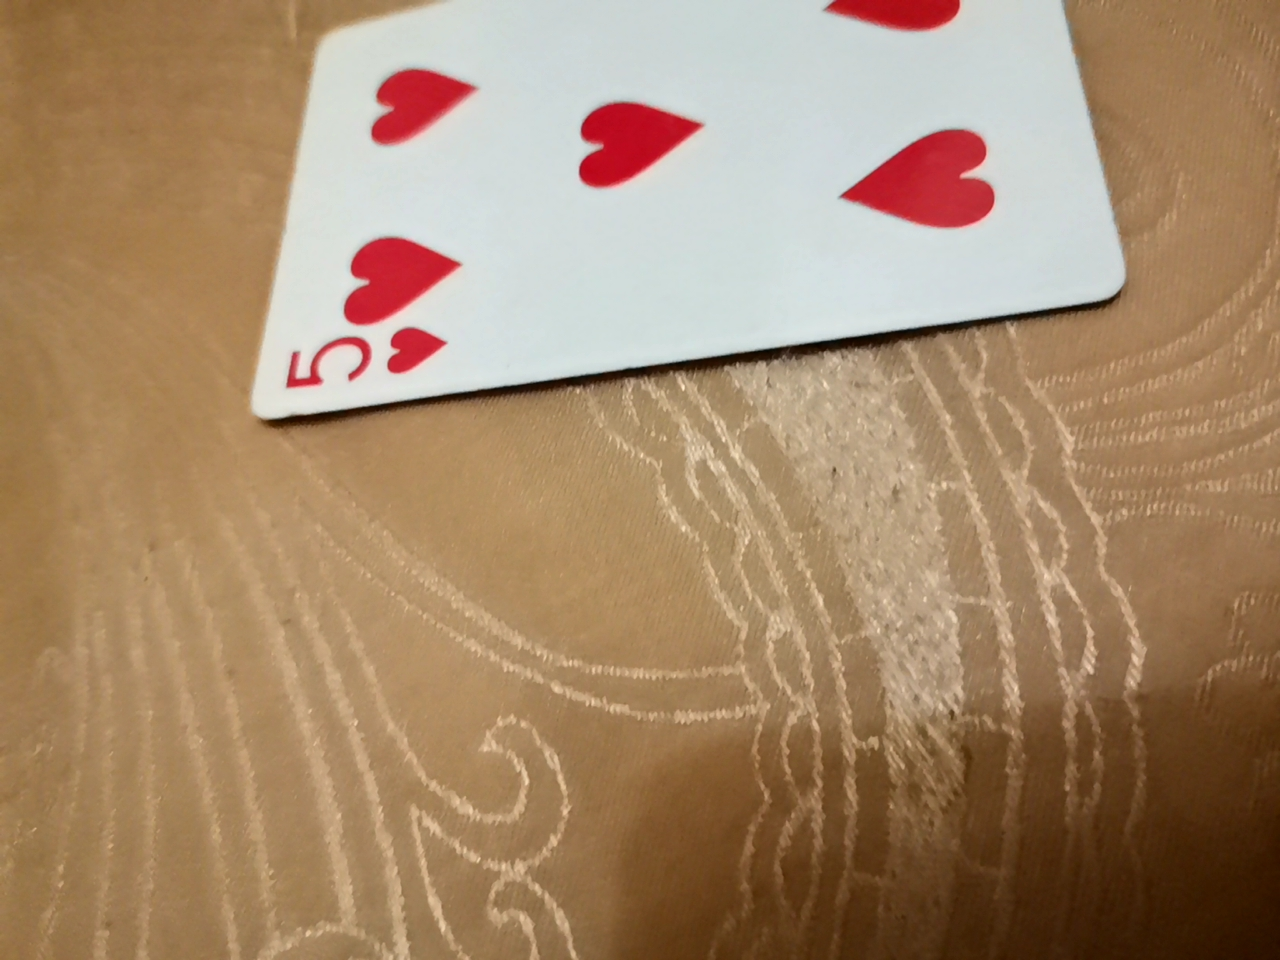hx 5: (231, 6, 1087, 534)
